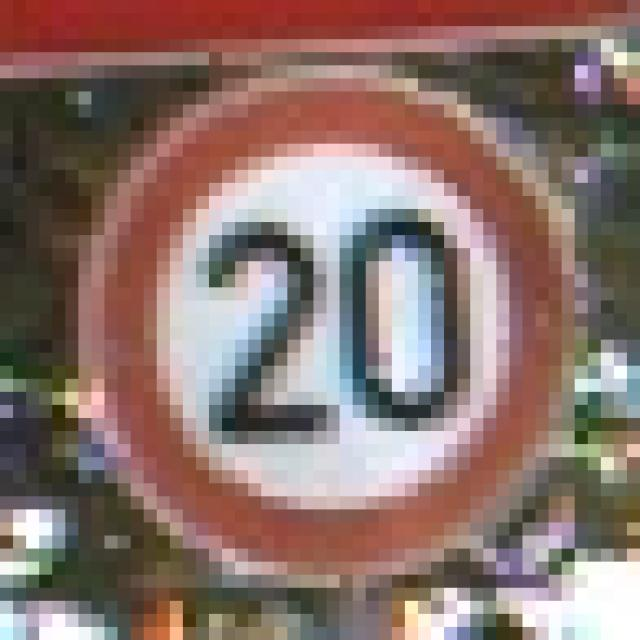Speed Limit -20-: (78, 65, 575, 575)
